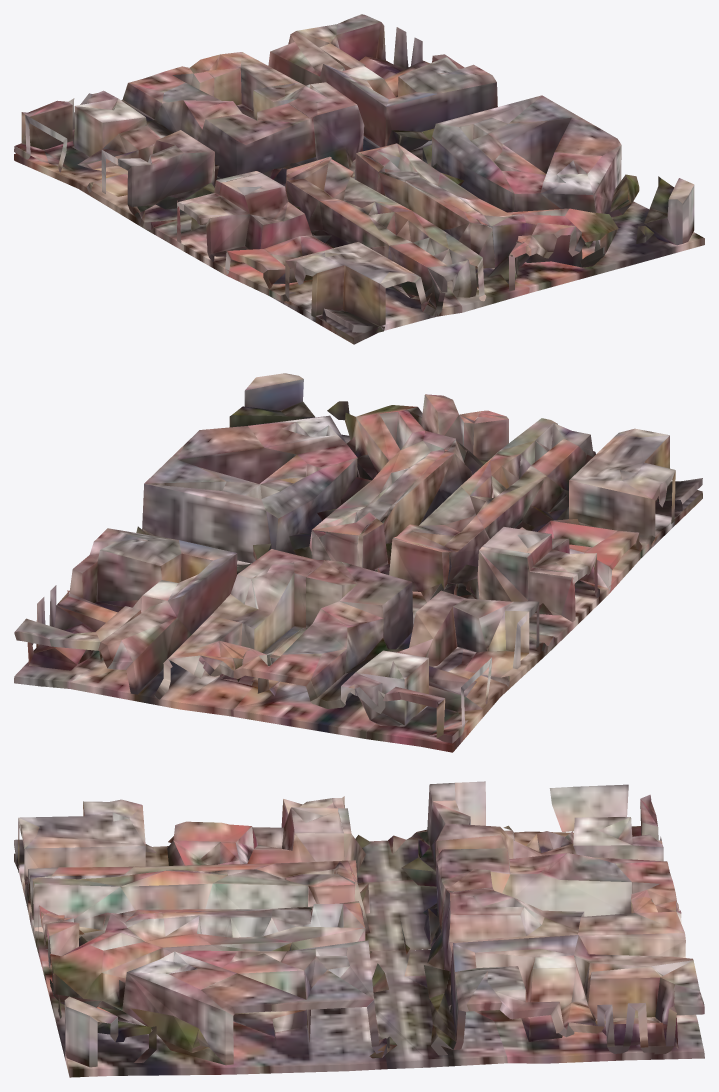
3 renders of one model, top to bottom at view 1: azimuth 30°, elevation 25°; view 2: azimuth 150°, elevation 25°; view 3: azimuth 270°, elevation 25°, orthographic. The views are drawn at different scales.
Visible parts, largest first — view 1: Mesh_0; view 2: Mesh_0; view 3: Mesh_0.
Boxes of the visible parts, box(x1,y1,x2,y2) form: Mesh_0: box(14, 14, 704, 344); Mesh_0: box(14, 373, 702, 752); Mesh_0: box(14, 781, 704, 1077).
Bounding box in the file's own units: 266 × 44.39 × 330.
1 material, 1 textured.
